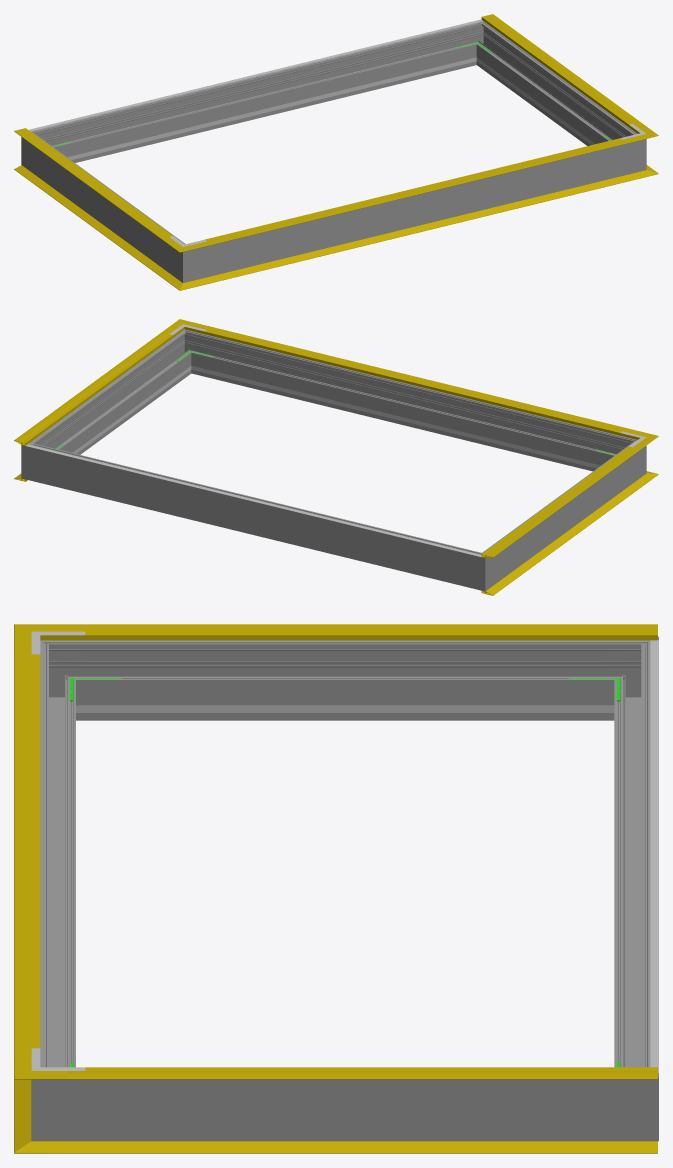
The picture shows the model from 3 angles, top to bottom: view 1: azimuth 30°, elevation 25°; view 2: azimuth 150°, elevation 25°; view 3: azimuth 270°, elevation 25°; orthographic projection. The views are drawn at different scales.
Visible parts, largest first — view 1: 3DGeom-276, 3DGeom-298, 3DGeom-297, 3DGeom-268, 3DGeom-28, 3DGeom-141, 3DGeom-244, 3DGeom-145, 3DGeom-38, 3DGeom-147, 3DGeom-220, 3DGeom-270 (+7 smaller); view 2: 3DGeom-298, 3DGeom-276, 3DGeom-297, 3DGeom-268, 3DGeom-141, 3DGeom-145, 3DGeom-239, 3DGeom-38, 3DGeom-147, 3DGeom-278, 3DGeom-220, 3DGeom-158 (+6 smaller); view 3: 3DGeom-268, 3DGeom-297, 3DGeom-276, 3DGeom-298, 3DGeom-147, 3DGeom-30, 3DGeom-141, 3DGeom-145, 3DGeom-158, 3DGeom-220, 3DGeom-284, 3DGeom-290 (+9 smaller).
Part boxes in pixels (bbox=[...]): 3DGeom-276: bbox=[47, 26, 472, 162]; 3DGeom-298: bbox=[207, 145, 622, 277]; 3DGeom-297: bbox=[479, 29, 628, 145]; 3DGeom-268: bbox=[35, 140, 176, 272]; 3DGeom-28: bbox=[199, 174, 634, 284]; 3DGeom-141: bbox=[199, 138, 634, 246]; 3DGeom-244: bbox=[76, 63, 453, 158]; 3DGeom-145: bbox=[481, 14, 644, 130]; 3DGeom-38: bbox=[14, 165, 173, 280]; 3DGeom-147: bbox=[14, 129, 173, 242]; 3DGeom-220: bbox=[29, 19, 482, 131]; 3DGeom-270: bbox=[169, 238, 206, 282]; 3DGeom-298: bbox=[195, 334, 620, 471]; 3DGeom-276: bbox=[45, 447, 465, 585]; 3DGeom-297: bbox=[39, 338, 189, 454]; 3DGeom-268: bbox=[491, 448, 632, 581]; 3DGeom-141: bbox=[197, 325, 634, 437]; 3DGeom-145: bbox=[14, 329, 177, 445]; 3DGeom-239: bbox=[214, 371, 592, 467]; 3DGeom-38: bbox=[481, 480, 644, 595]; 3DGeom-147: bbox=[481, 444, 644, 557]; 3DGeom-278: bbox=[461, 546, 498, 591]; 3DGeom-220: bbox=[25, 444, 481, 557]; 3DGeom-158: bbox=[205, 330, 622, 432]; 3DGeom-268: bbox=[85, 640, 605, 720]; 3DGeom-297: bbox=[85, 1079, 605, 1141]; 3DGeom-276: bbox=[614, 659, 650, 1067]; 3DGeom-298: bbox=[40, 659, 75, 1067]; 3DGeom-147: bbox=[67, 624, 657, 640]; 3DGeom-30: bbox=[67, 1141, 657, 1153]; 3DGeom-141: bbox=[14, 647, 31, 1055]; 3DGeom-145: bbox=[67, 1071, 657, 1079]; 3DGeom-158: bbox=[31, 654, 40, 1048]; 3DGeom-220: bbox=[650, 640, 658, 1072]; 3DGeom-284: bbox=[605, 1053, 658, 1141]; 3DGeom-290: bbox=[31, 1053, 84, 1141].
Size of the model in its own units: 3.05 by 0.2357 by 1.83.
